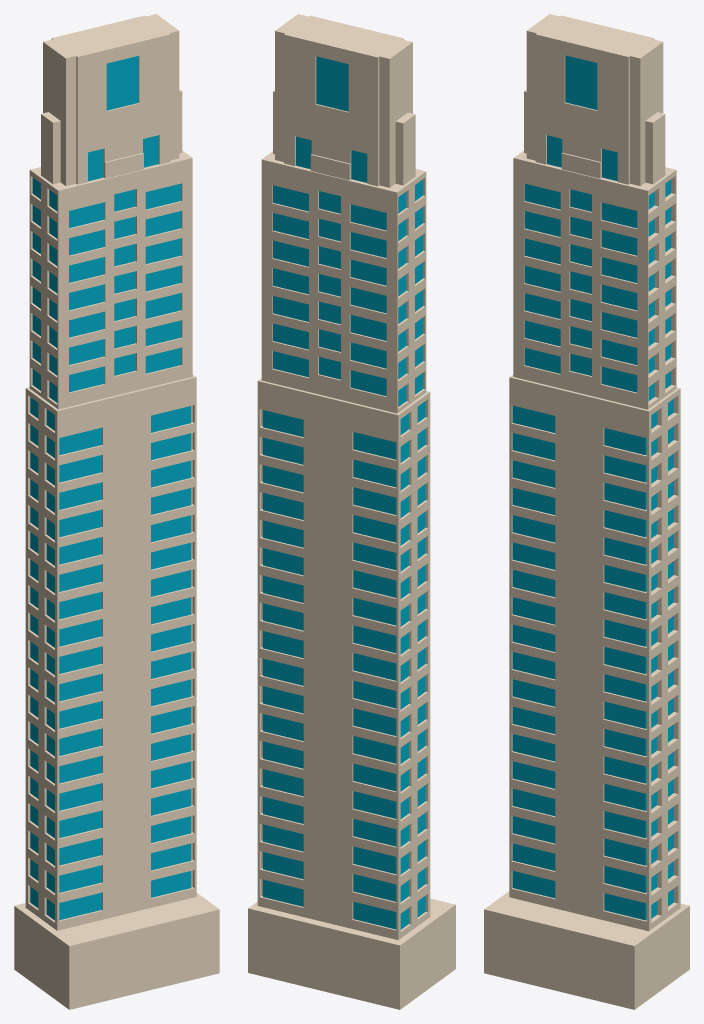
Rendered from 220_cps.glb.
3 views of the same model, side by side, from view 1: azimuth 30°, elevation 25°; view 2: azimuth 150°, elevation 25°; view 3: azimuth 330°, elevation 25° (orthographic).
Parts seen in each view (by area): view 1: Object_2, Object_3; view 2: Object_2, Object_3; view 3: Object_2, Object_3.
Part boxes in pixels (x1,y1,x2,y2): Object_2: (14, 14, 219, 1009); Object_3: (30, 56, 191, 920); Object_2: (248, 14, 455, 1009); Object_3: (263, 56, 425, 929); Object_2: (484, 14, 689, 1009); Object_3: (512, 55, 673, 920).
Bounding box in the file's own units: 22 × 130 × 14.
